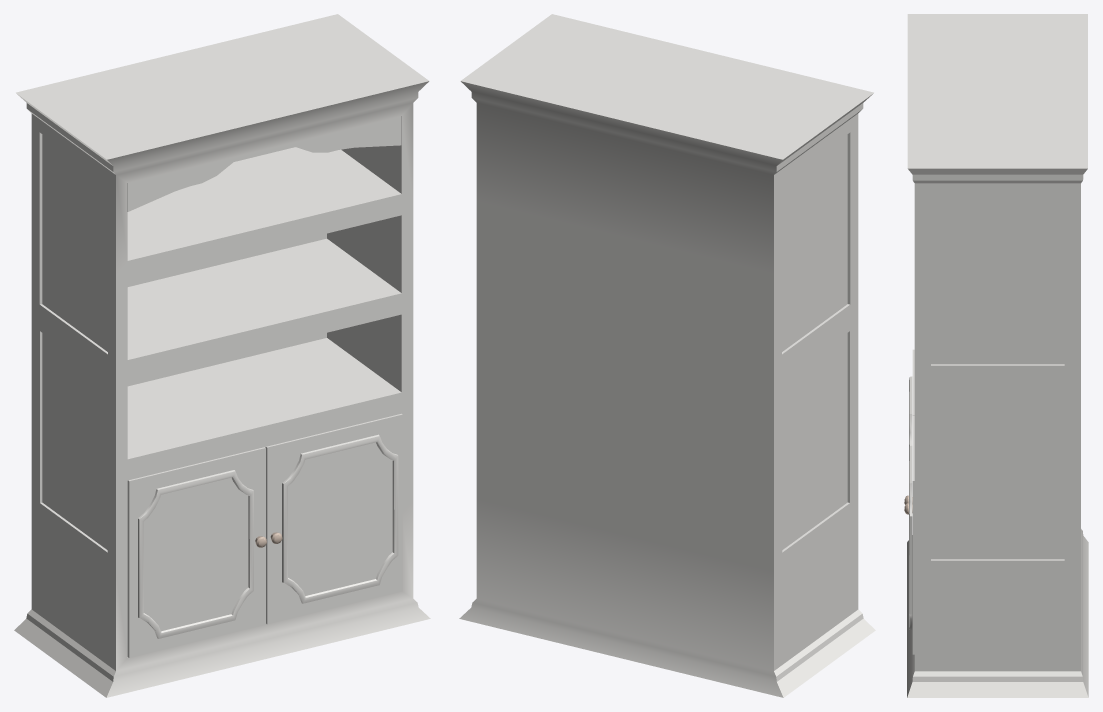
The model's file is prop_boockshelf.fbx.
3 views of the same model, side by side, from view 1: azimuth 30°, elevation 25°; view 2: azimuth 150°, elevation 25°; view 3: azimuth 270°, elevation 25° (orthographic).
Parts seen in each view (by area): view 1: Estanteria deco con puerta; view 2: Estanteria deco con puerta; view 3: Estanteria deco con puerta.
Boxes of the visible parts, x1,y1,x2,y2 form: Estanteria deco con puerta: (14,14,430,697); Estanteria deco con puerta: (459,14,875,697); Estanteria deco con puerta: (904,14,1088,697).
Size of the model in its own units: 120 by 190 by 60.
Materials: 2 (2 with a texture image).
